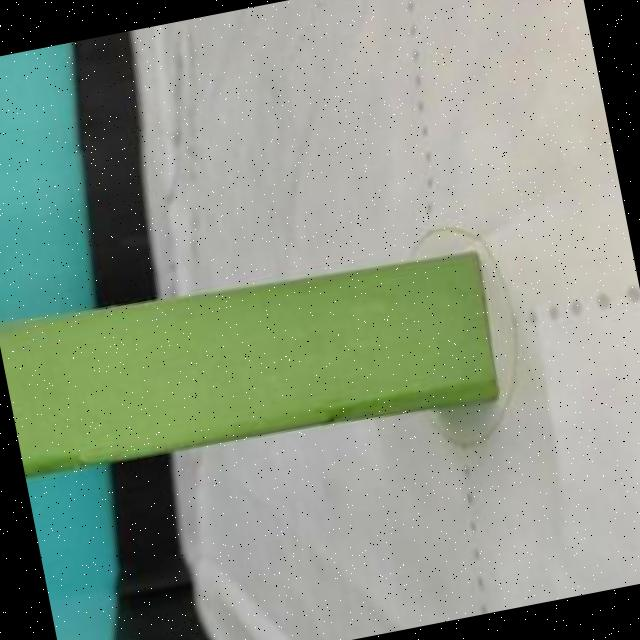greenbox: (0, 231, 508, 492)
